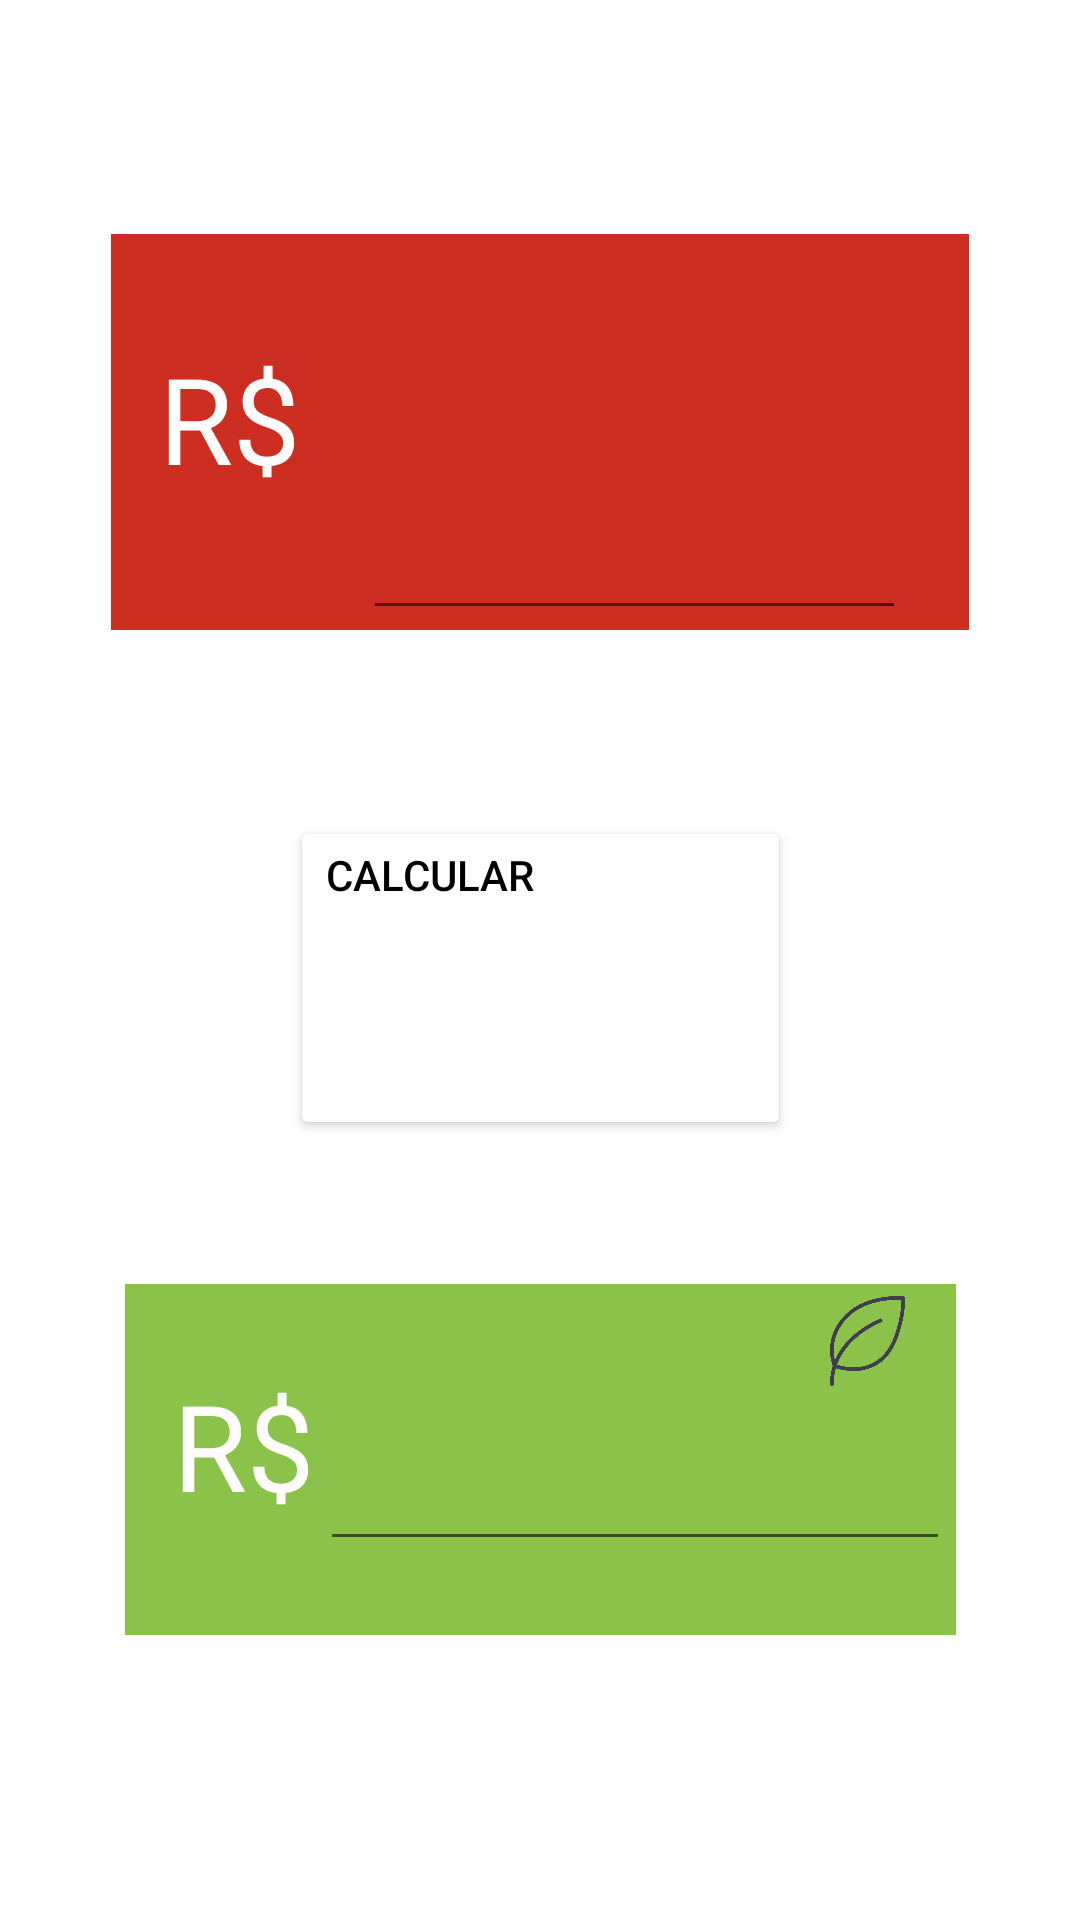

Icons on this 1080×1920 Android screen, each with its box as (x1, y1, x2, y2):
folha: (830, 1296, 905, 1386)
